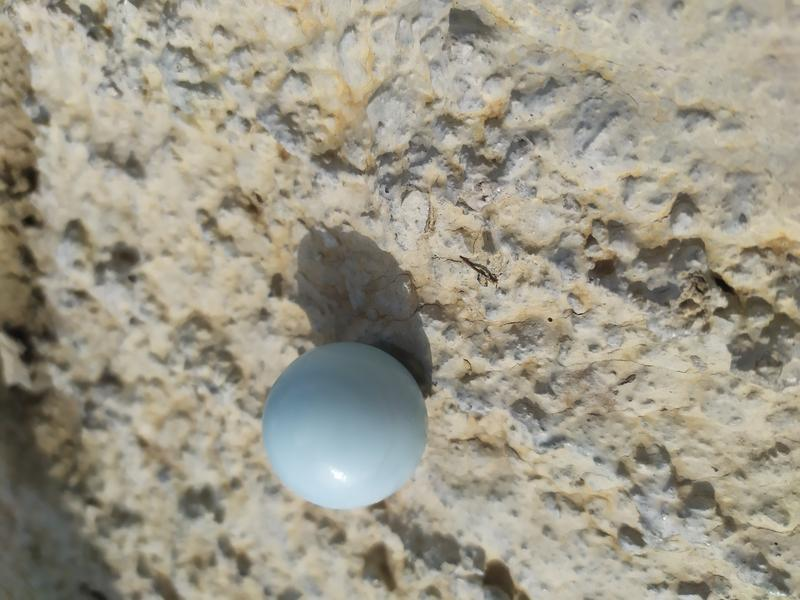Warning: (258, 335, 436, 514)
